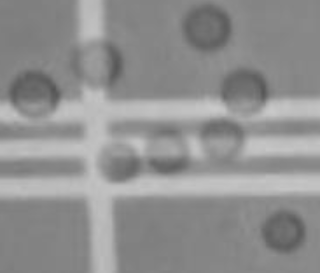cell: (64, 28, 129, 95), (5, 64, 63, 123), (139, 119, 195, 177), (217, 63, 273, 119), (178, 1, 234, 55), (195, 111, 247, 169), (257, 204, 311, 259), (90, 134, 145, 187)
